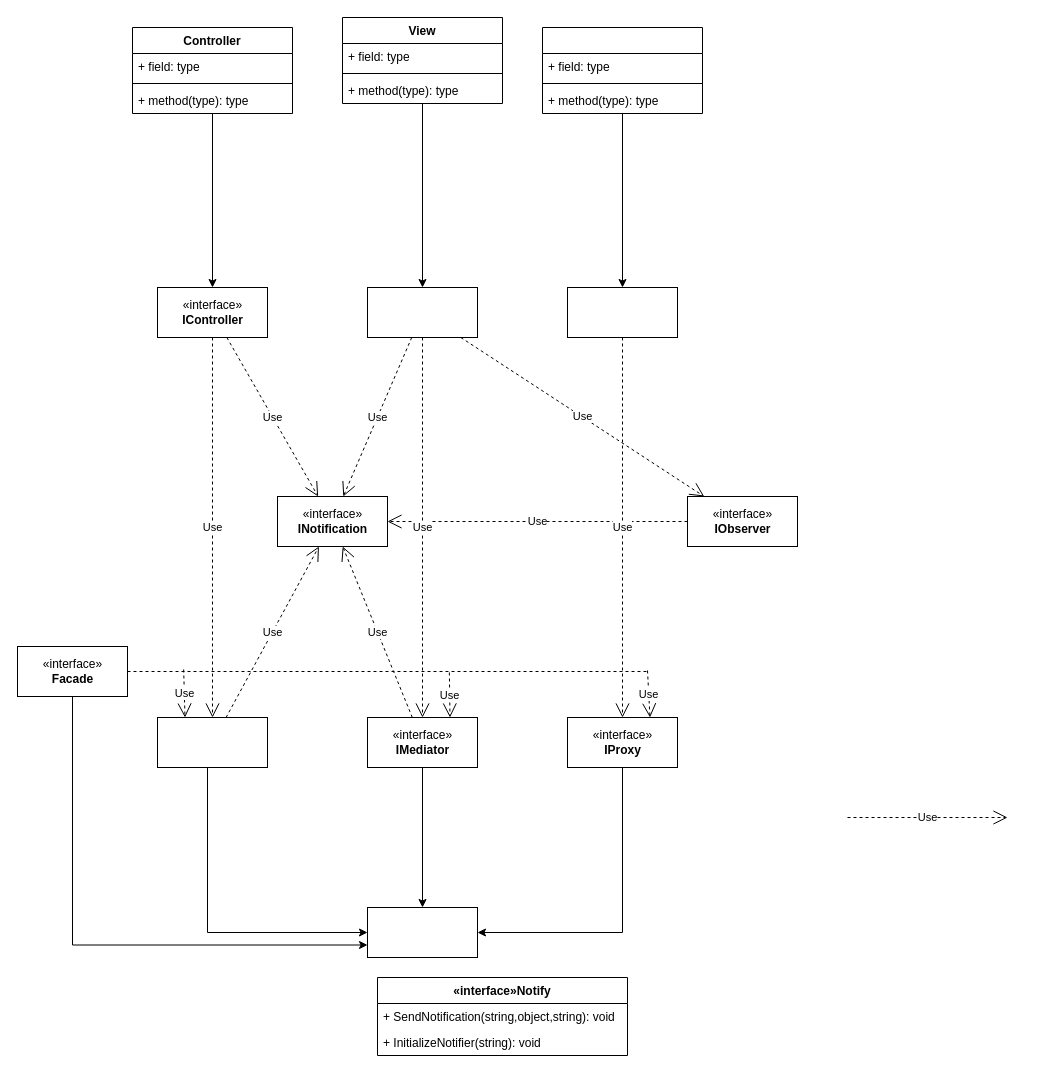
Image size: 1039x1076. Some labels were removed from this diagram. Each missing label, with the box of its shape:
Model: (542, 26, 702, 114)
«interface» ICommand: (156, 716, 268, 768)
«interface» IModel: (566, 286, 678, 338)
«interface» INotify: (366, 906, 478, 958)
«interface» IView: (366, 286, 478, 338)
